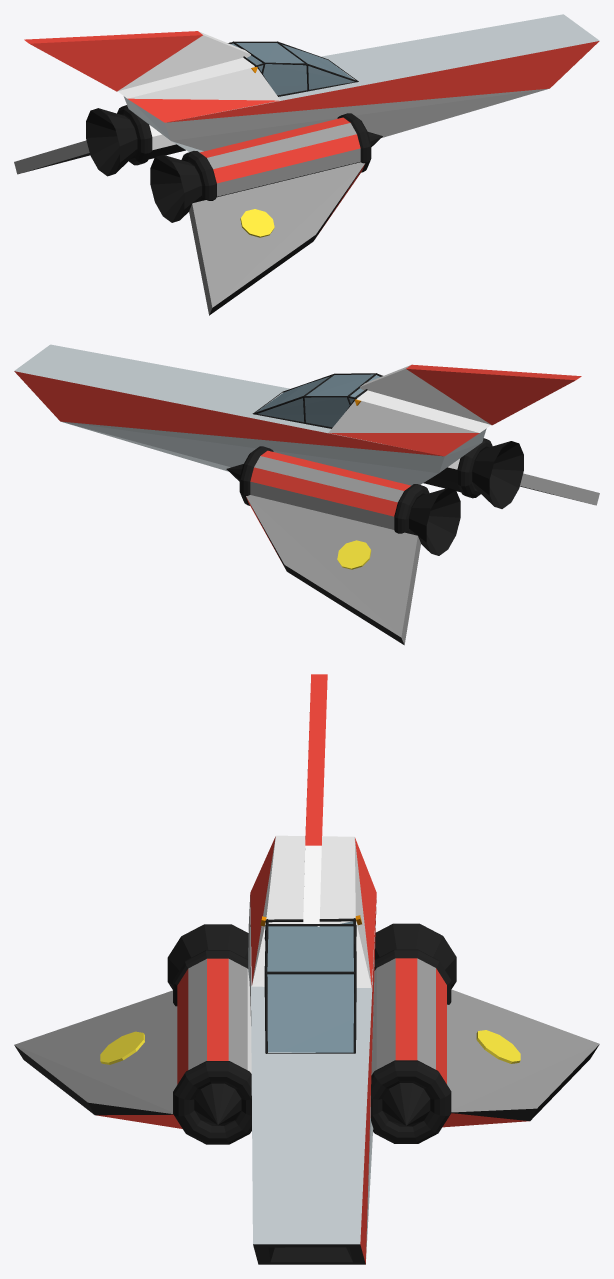
The model's file is player.fbx.
3 renders of one model, top to bottom at view 1: azimuth 30°, elevation 25°; view 2: azimuth 150°, elevation 25°; view 3: azimuth 270°, elevation 25°, orthographic. The views are drawn at different scales.
Parts seen in each view (by area): view 1: mesh_2020994543, mesh_583484001, mesh_369983197, mesh_416505795, mesh_498937022, mesh_342472047, mesh_1158770476, mesh_225747057, mesh_957319078, mesh_1448588707, mesh_447846887, group_1348752867 (+2 smaller); view 2: mesh_2020994543, mesh_957319078, mesh_369983197, mesh_980744227, mesh_498937022, mesh_342472047, mesh_225747057, mesh_1158770476, mesh_583484001, mesh_447846887, mesh_1448588707, group_920004030 (+2 smaller); view 3: mesh_2020994543, mesh_583484001, mesh_957319078, mesh_342472047, mesh_498937022, mesh_980744227, mesh_416505795, mesh_369983197, mesh_1988512676, mesh_1541469745, mesh_1158770476, mesh_225747057 (+6 smaller).
Part boxes in pixels (bbox=[...]): mesh_2020994543: bbox=[123, 14, 599, 152]; mesh_583484001: bbox=[189, 162, 365, 315]; mesh_369983197: bbox=[24, 31, 250, 91]; mesh_416505795: bbox=[200, 117, 360, 197]; mesh_498937022: bbox=[118, 57, 280, 122]; mesh_342472047: bbox=[231, 43, 354, 95]; mesh_1158770476: bbox=[86, 108, 137, 176]; mesh_225747057: bbox=[150, 154, 201, 222]; mesh_957319078: bbox=[14, 140, 89, 174]; mesh_1448588707: bbox=[117, 105, 152, 165]; mesh_447846887: bbox=[181, 151, 216, 201]; group_1348752867: bbox=[240, 209, 274, 237]; mesh_2020994543: bbox=[14, 344, 486, 485]; mesh_957319078: bbox=[246, 495, 420, 645]; mesh_369983197: bbox=[360, 364, 581, 425]; mesh_980744227: bbox=[250, 450, 410, 529]; mesh_498937022: bbox=[328, 390, 490, 456]; mesh_342472047: bbox=[256, 374, 380, 427]; mesh_225747057: bbox=[472, 441, 523, 508]; mesh_1158770476: bbox=[409, 488, 460, 555]; mesh_583484001: bbox=[520, 473, 599, 505]; mesh_447846887: bbox=[457, 438, 492, 498]; mesh_1448588707: bbox=[394, 484, 429, 533]; group_920004030: bbox=[337, 540, 371, 569]; mesh_2020994543: bbox=[248, 895, 376, 1264]; mesh_583484001: bbox=[14, 990, 182, 1128]; mesh_957319078: bbox=[442, 989, 599, 1127]; mesh_342472047: bbox=[267, 921, 353, 1052]; mesh_498937022: bbox=[250, 835, 376, 987]; mesh_980744227: bbox=[371, 958, 446, 1083]; mesh_416505795: bbox=[177, 958, 251, 1084]; mesh_369983197: bbox=[303, 674, 327, 926]; mesh_1988512676: bbox=[371, 1060, 451, 1143]; mesh_1541469745: bbox=[173, 1061, 251, 1144]; mesh_1158770476: bbox=[375, 923, 456, 988]; mesh_225747057: bbox=[167, 924, 248, 989].
Size of the model in its own units: 343 by 131 by 214.
